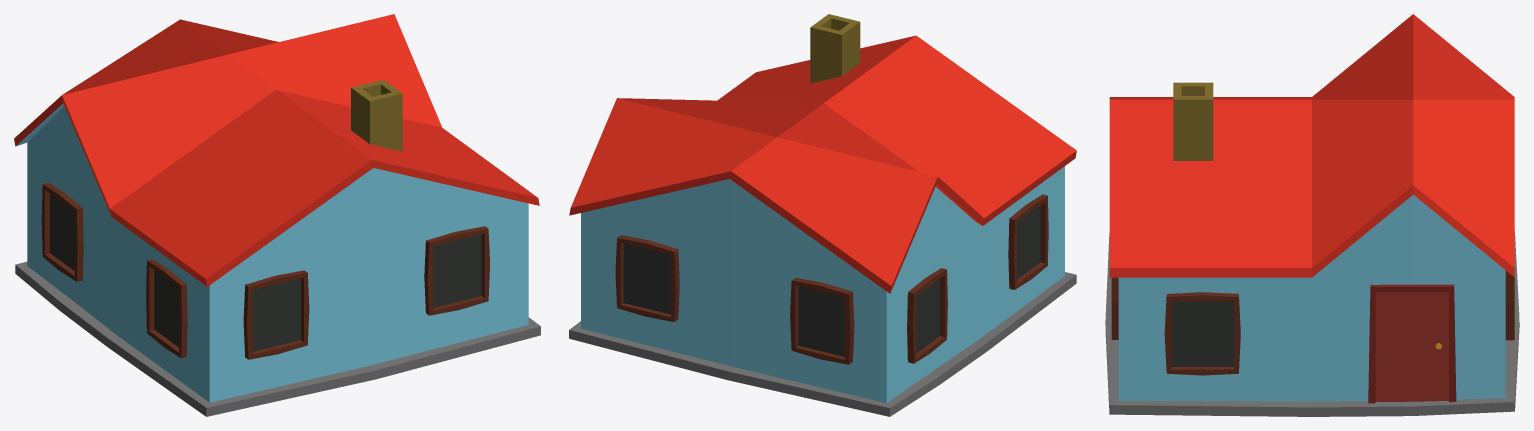
The picture shows the model from 3 angles, left to right: view 1: azimuth 30°, elevation 25°; view 2: azimuth 150°, elevation 25°; view 3: azimuth 270°, elevation 25°; orthographic projection. The views are drawn at different scales.
Parts seen in each view (by area): view 1: Plane, Cube, Cube.001; view 2: Plane, Cube, Cube.001; view 3: Plane, Cube.002, Cube, Cube.001.
Part boxes in pixels (x1,y1,x2,y2): Plane: (14,14,540,416); Cube: (41,182,489,359); Cube.001: (351,79,402,151); Plane: (569,35,1076,416); Cube: (615,194,1048,364); Cube.001: (810,14,860,83); Plane: (1105,14,1519,416); Cube.002: (1368,284,1456,403); Cube: (1111,270,1514,375); Cube.001: (1173,82,1213,160).
Bounding box in the file's own units: 205 × 143 × 205.
